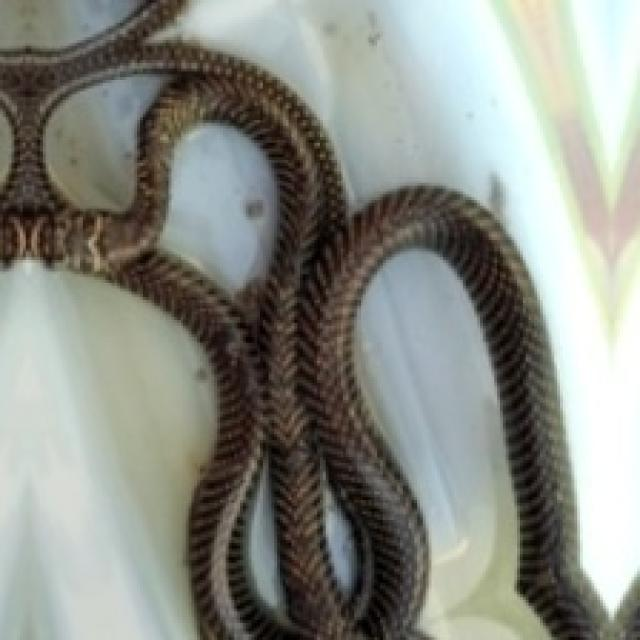paradise tree snake: (0, 0, 594, 637), (169, 0, 637, 591), (0, 263, 211, 637), (420, 423, 546, 637), (363, 251, 451, 394)
